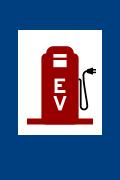Petrol Pump- Gas Station: (10, 22, 109, 144)
